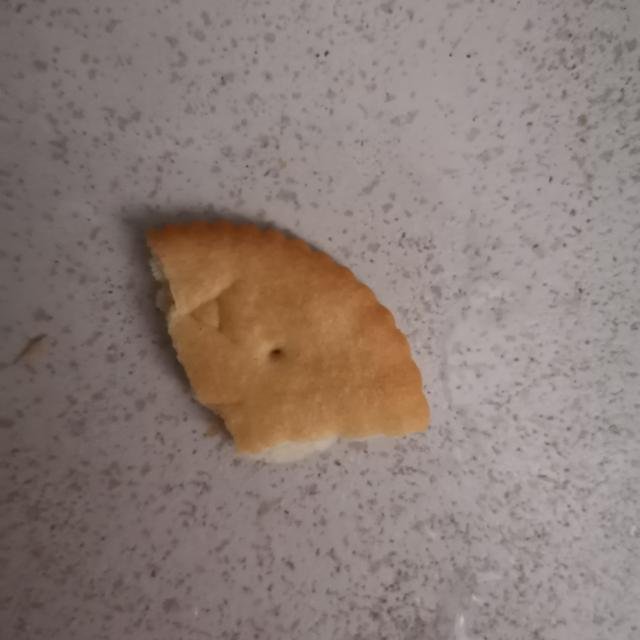Broken: (143, 218, 430, 462)
